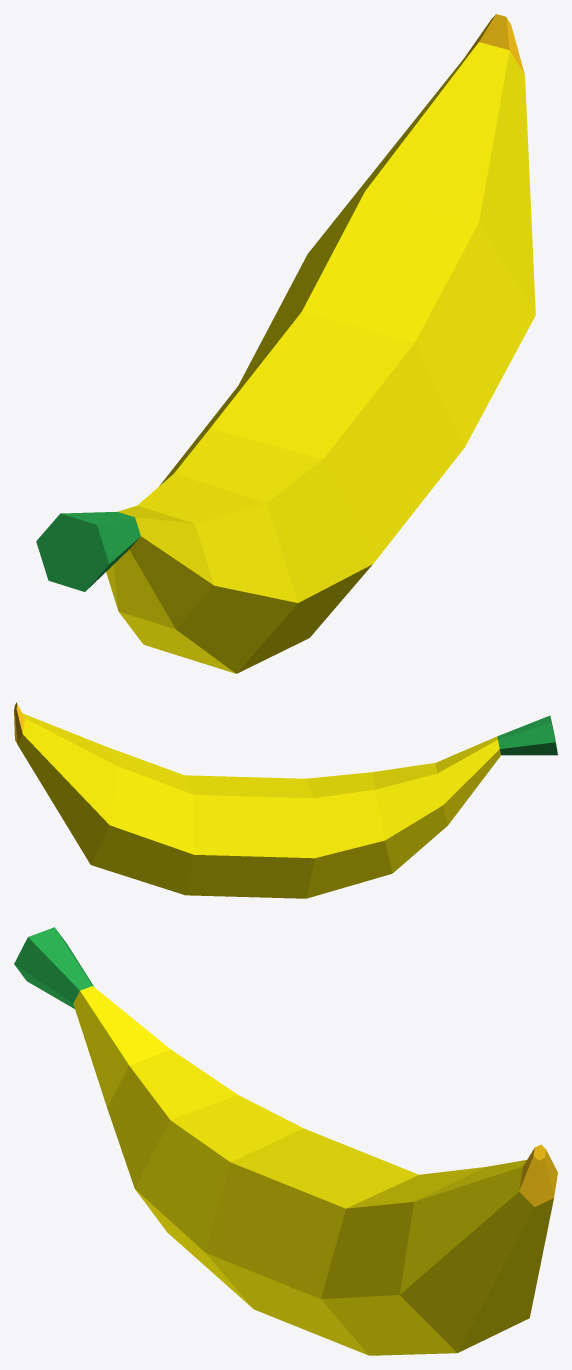
File: Banana.glb
The picture shows the model from 3 angles, top to bottom: view 1: azimuth 30°, elevation 25°; view 2: azimuth 150°, elevation 25°; view 3: azimuth 270°, elevation 25°; orthographic projection. The views are drawn at different scales.
Visible parts, largest first — view 1: Cylinder; view 2: Cylinder; view 3: Cylinder.
Part boxes in pixels (x1,y1,x2,y2): Cylinder: [36, 14, 535, 673]; Cylinder: [14, 702, 557, 898]; Cylinder: [14, 927, 557, 1355].
Size of the model in its own units: 2.28 by 1.11 by 1.79.
1 material, 1 textured.
